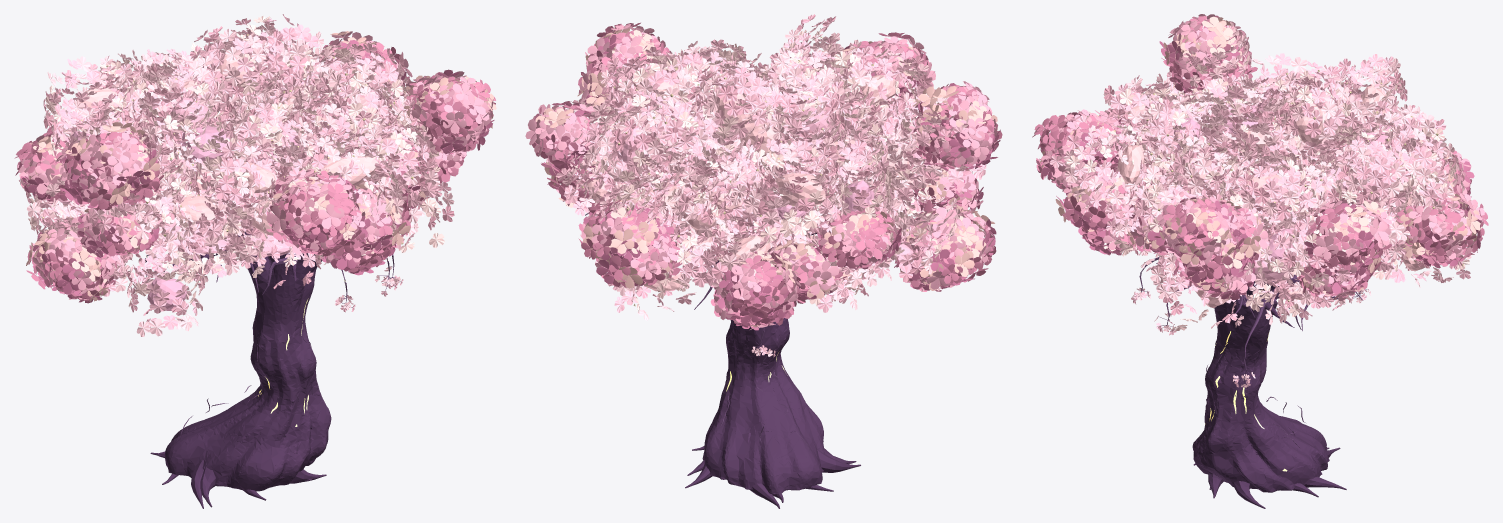
File: sakura_hero_r18.glb
The picture shows the model from 3 angles, left to right: view 1: azimuth 30°, elevation 25°; view 2: azimuth 150°, elevation 25°; view 3: azimuth 270°, elevation 25°; orthographic projection. The views are drawn at different scales.
Parts seen in each view (by area): view 1: Sakura_petal_pink, R17b_outer_quality, Sakura_petal_blush, Trunk_bark_plumblack, Sakura_petal_warm_rose, Sakura_petal_cream, R17b_skirt_quality, R17b_bridge_quality, Canopy_peach, Canopy_depth_rose, Canopy_rose, Branches_plum; view 2: R17b_outer_quality, Sakura_petal_pink, Sakura_petal_blush, Trunk_bark_plumblack, Sakura_petal_warm_rose, Sakura_petal_cream, R17b_bridge_quality, Canopy_peach, R17b_skirt_quality, Canopy_rose, Canopy_depth_rose; view 3: Sakura_petal_pink, Sakura_petal_blush, R17b_outer_quality, Trunk_bark_plumblack, Sakura_petal_warm_rose, Sakura_petal_cream, R17b_bridge_quality, Canopy_peach, R17b_skirt_quality, Canopy_depth_rose, Branches_plum, Canopy_rose.
Part boxes in pixels (x1,y1,x2,y2): Sakura_petal_pink: (19,14,451,327); R17b_outer_quality: (14,31,496,295); Sakura_petal_blush: (26,23,454,336); Trunk_bark_plumblack: (150,232,331,508); Sakura_petal_warm_rose: (31,18,454,329); Sakura_petal_cream: (28,15,453,306); R17b_skirt_quality: (61,145,466,303); R17b_bridge_quality: (55,75,466,279); Canopy_peach: (64,54,412,238); Canopy_depth_rose: (72,81,299,310); Canopy_rose: (57,51,393,256); Branches_plum: (145,229,394,437); R17b_outer_quality: (525,22,1002,326); Sakura_petal_pink: (546,19,986,357); Sakura_petal_blush: (553,22,969,356); Trunk_bark_plumblack: (685,231,860,508); Sakura_petal_warm_rose: (555,14,971,299); Sakura_petal_cream: (542,28,972,312); R17b_bridge_quality: (561,41,980,303); Canopy_peach: (585,64,937,291); R17b_skirt_quality: (556,167,983,330); Canopy_rose: (614,107,932,256); Canopy_depth_rose: (715,72,874,219); Sakura_petal_pink: (1049,29,1470,387); Sakura_petal_blush: (1063,22,1475,387); R17b_outer_quality: (1032,14,1488,286); Trunk_bark_plumblack: (1156,263,1346,508); Sakura_petal_warm_rose: (1066,19,1464,323); Sakura_petal_cream: (1066,42,1469,331); R17b_bridge_quality: (1061,43,1466,282); Canopy_peach: (1105,59,1425,308); R17b_skirt_quality: (1078,200,1390,300); Canopy_depth_rose: (1174,104,1394,259); Branches_plum: (1139,257,1363,448); Canopy_rose: (1143,87,1383,279).
Bounding box in the file's own units: 28.67 × 27 × 27.84.
